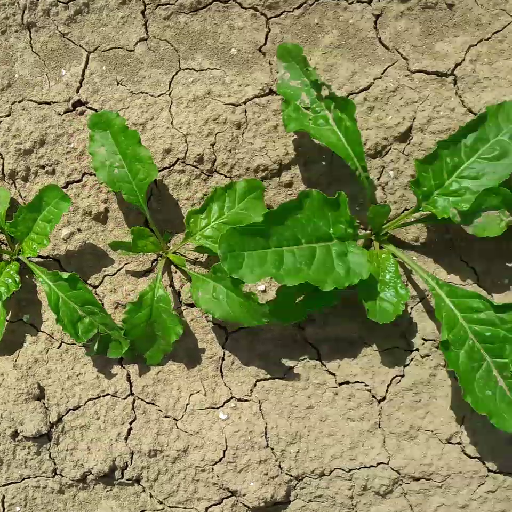sugarbeet: (216, 39, 511, 436), (86, 107, 277, 372), (1, 180, 131, 361)
